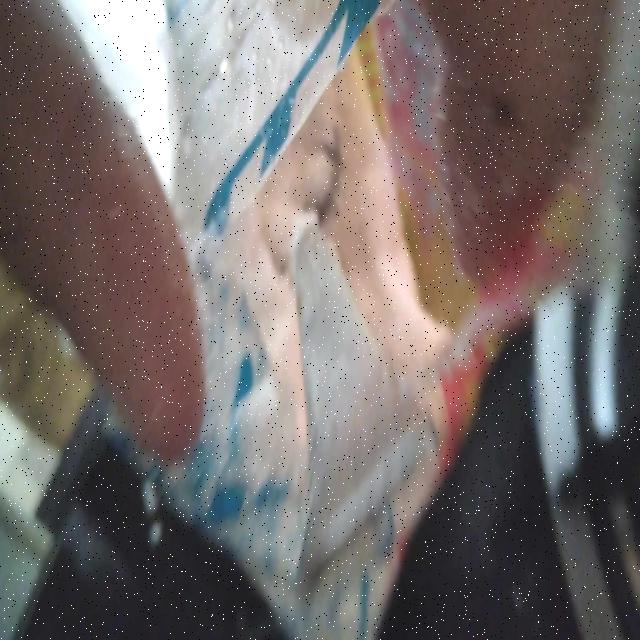Salt: (314, 165, 400, 277)
